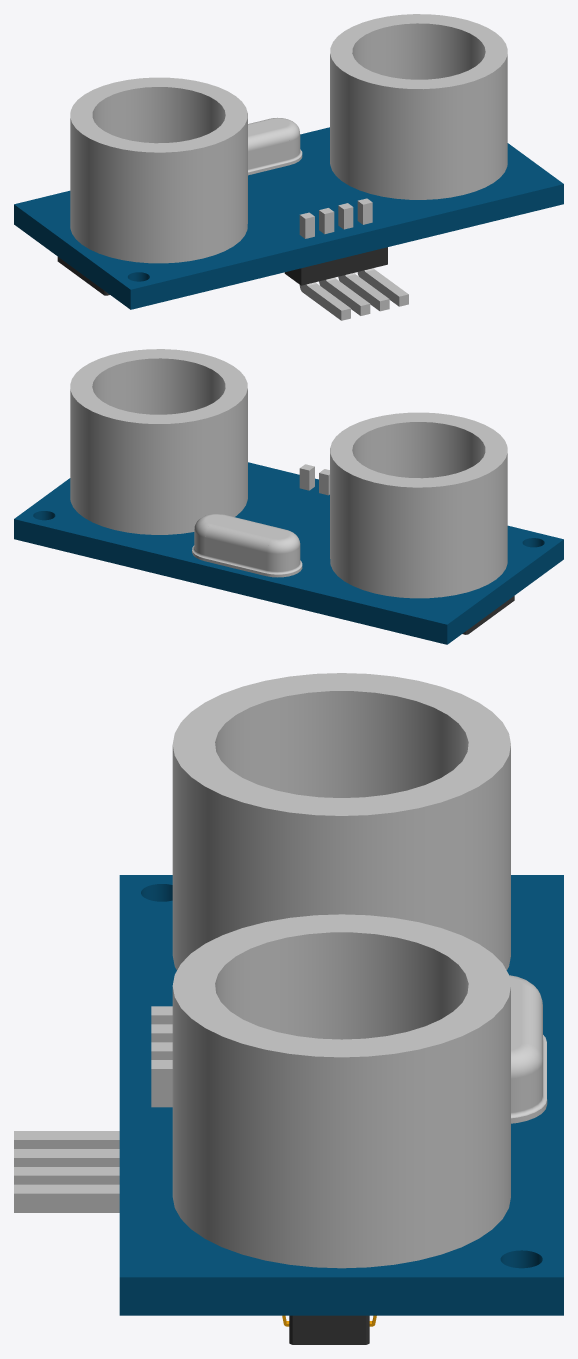
The picture shows the model from 3 angles, top to bottom: view 1: azimuth 30°, elevation 25°; view 2: azimuth 150°, elevation 25°; view 3: azimuth 270°, elevation 25°; orthographic projection. The views are drawn at different scales.
Visible parts, largest first — view 1: =>[0:1:1:2]_1cd277, =>[0:1:1:2]_37687a, =>[0:1:1:2]_d3b2fc; view 2: =>[0:1:1:2]_1cd277, =>[0:1:1:2]_37687a; view 3: =>[0:1:1:2]_1cd277, =>[0:1:1:2]_37687a, =>[0:1:1:2]_1e8463.
Boxes of the visible parts, left/top/right/bottom form: =>[0:1:1:2]_1cd277: left=70, top=14, right=507, bottom=320; =>[0:1:1:2]_37687a: left=14, top=127, right=563, bottom=309; =>[0:1:1:2]_d3b2fc: left=284, top=247, right=387, bottom=285; =>[0:1:1:2]_1cd277: left=70, top=349, right=507, bottom=598; =>[0:1:1:2]_37687a: left=14, top=462, right=563, bottom=644; =>[0:1:1:2]_1cd277: left=14, top=673, right=547, bottom=1268; =>[0:1:1:2]_37687a: left=119, top=875, right=563, bottom=1315; =>[0:1:1:2]_1e8463: left=289, top=1315, right=369, bottom=1344.
Bounding box in the file's own units: 45 × 16.5 × 26.
